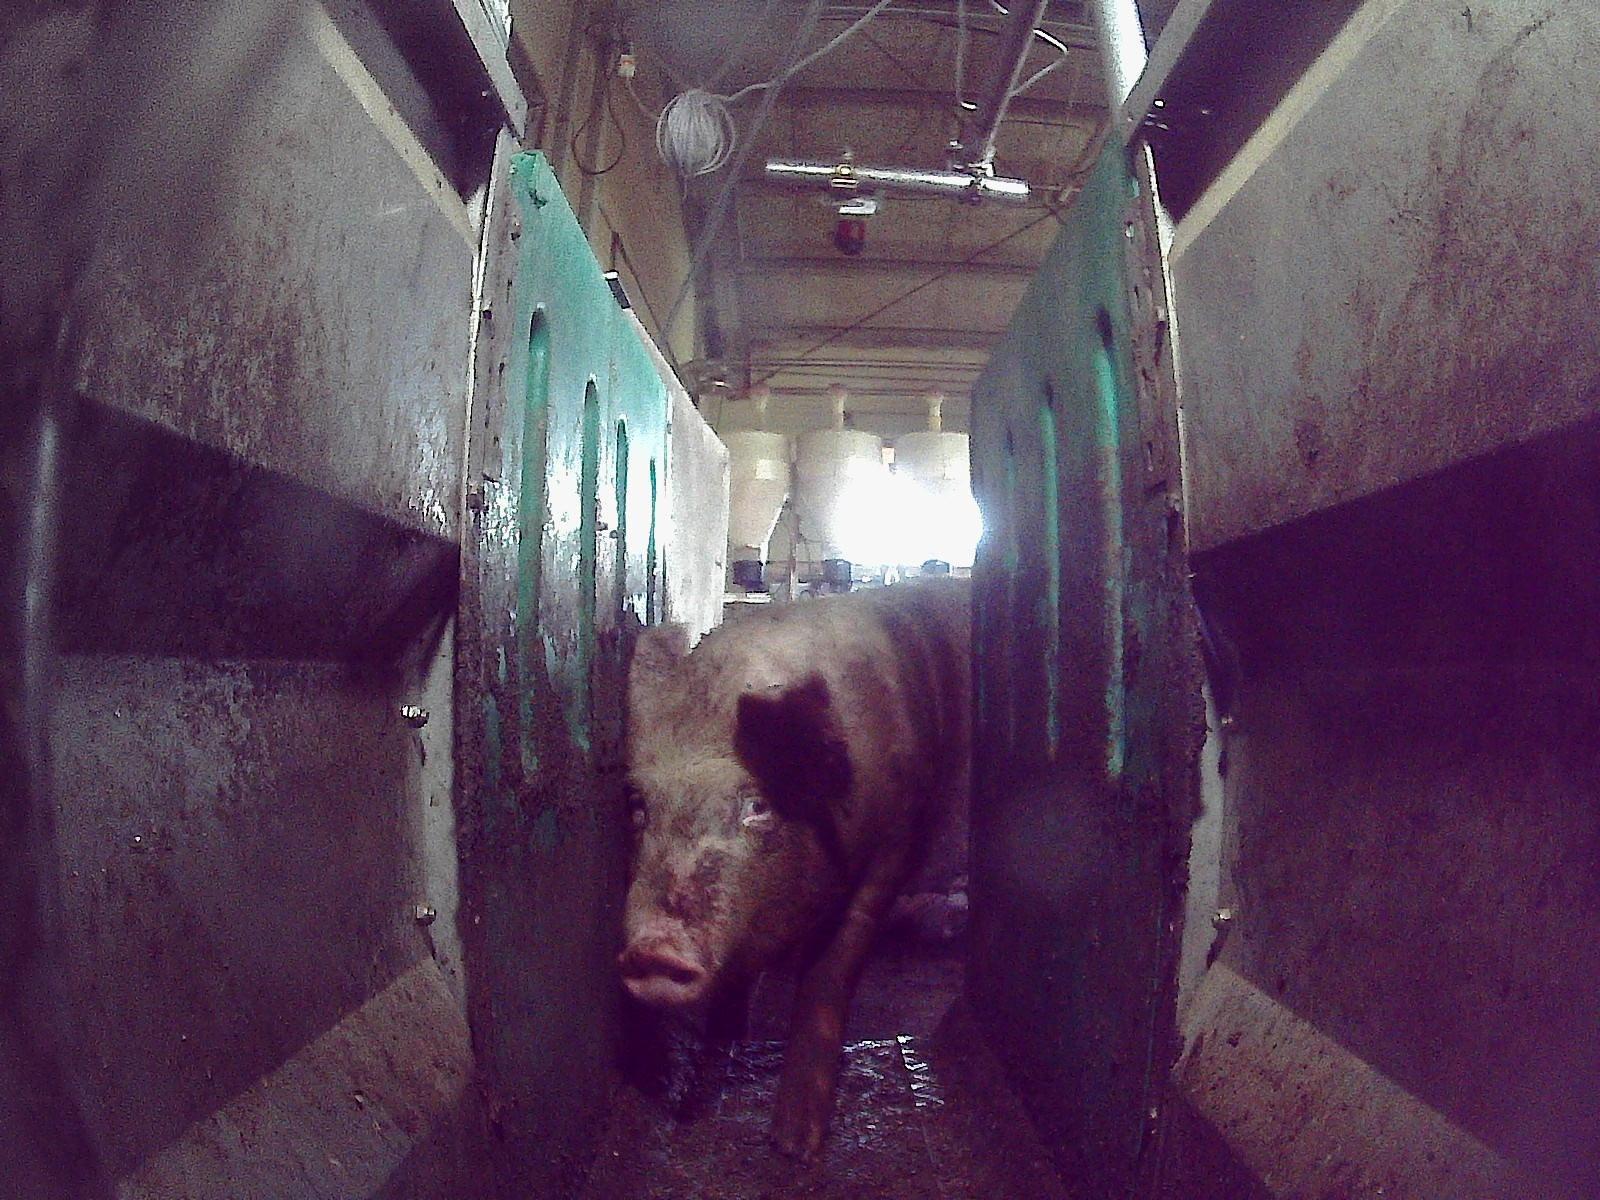Face: (613, 677, 839, 1004)
